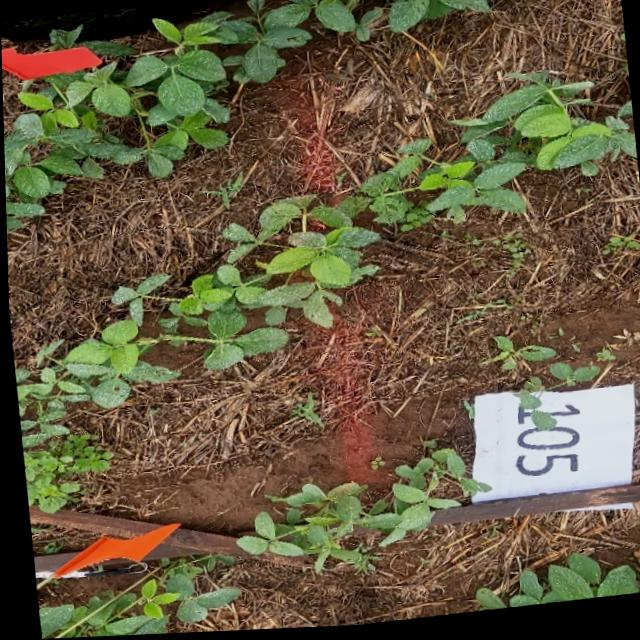caruru_weed: (20, 435, 108, 513), (463, 235, 528, 280), (361, 327, 392, 352), (599, 241, 638, 260), (366, 460, 381, 472)
grassy_weed: (199, 174, 241, 210), (288, 395, 320, 428)
soy_plant: (12, 78, 635, 447), (3, 0, 493, 229), (233, 453, 481, 574), (34, 557, 234, 639), (471, 558, 634, 615), (477, 340, 552, 375), (511, 381, 551, 434), (547, 367, 596, 390), (48, 29, 79, 48), (419, 444, 432, 451)
